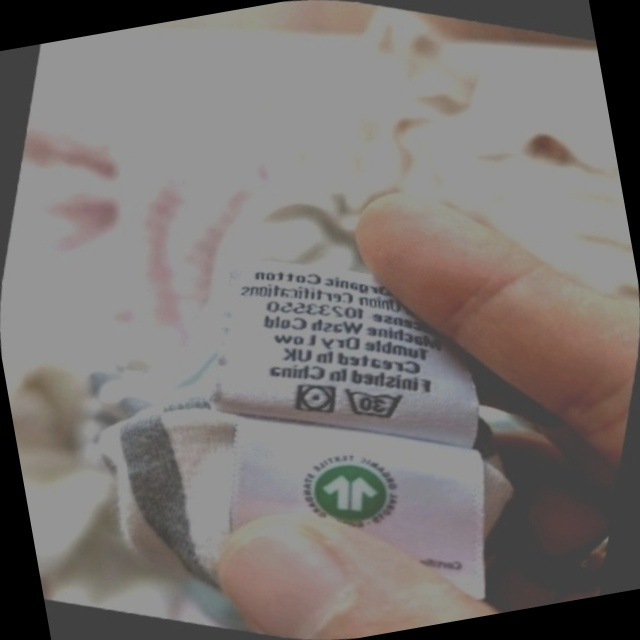30C: (331, 369, 417, 438)
tumble_dry_low: (283, 369, 348, 429)
